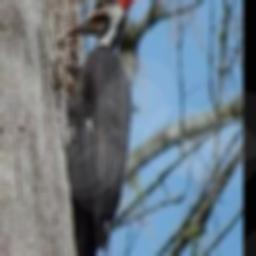Woodpecker: (62, 0, 141, 252)
